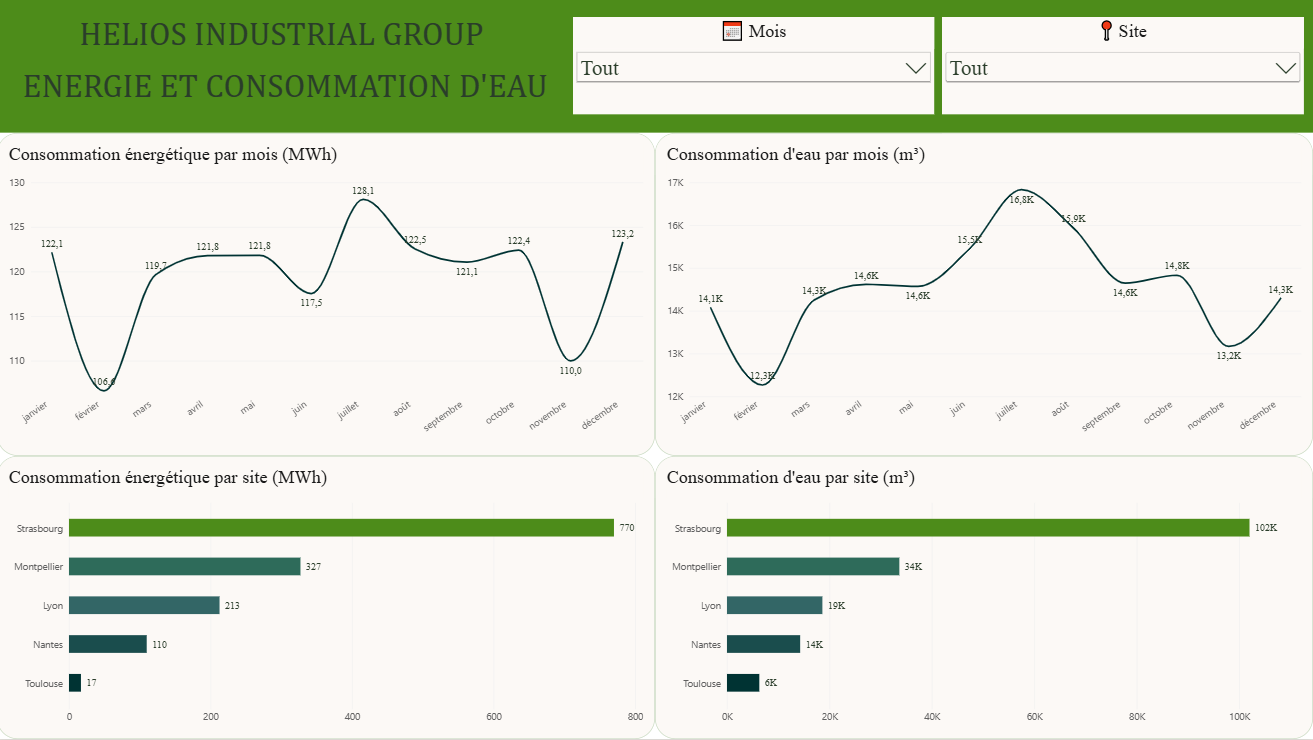

Layout of this report page (visuals, bound fields, positions):
{"tool":"powerbi","page":{"name":"ÉNERGIE & CONSOMMATION D'EAU","canvas":[1920,1080],"ordinal":1},"visuals":[{"type":"textbox","box":[0,0,1920,195],"z":0},{"type":"textbox","box":[0,26.3,840.4,153.2],"z":1000},{"type":"lineChart","title":"Consommation énergétique par mois (MWh)","fields":{"Category":["dim_date.Mois"],"Y":["Mesures.Consommation Energie MWh"]},"box":[0,195.5,960,471.2],"z":4000},{"type":"lineChart","title":"Consommation d''eau par mois (m³) ","fields":{"Category":["dim_date.Mois"],"Y":["Sum(mart_water.allocated_water_consumption_m3)"]},"box":[960,195.5,960,471.2],"z":5000},{"type":"clusteredBarChart","title":"Consommation énergétique par site (MWh)","fields":{"Category":["site.city"],"Y":["Mesures.Consommation Energie MWh"]},"box":[0,666.7,960,412.9],"z":6000},{"type":"clusteredBarChart","title":"Consommation d''eau par site (m³) ","fields":{"Category":["site.city"],"Y":["Sum(mart_water.allocated_water_consumption_m3)"]},"box":[960,666.7,960,412.9],"z":7000},{"type":"slicer","title":"📅 Mois","fields":{"Values":["dim_date.Mois"]},"box":[840,26.7,526.7,141.7],"z":7001},{"type":"slicer","title":"📍 Site","fields":{"Values":["site.site_name"]},"box":[1378.3,26.7,528.3,141.7],"z":7002}]}

Visuals, with their boxes in screenshot pixels (x1, y1, x2, y2), scaled from the page's 1920x1080 canvas onto the 1313x740 screenshot:
textbox: 0, 0, 1312, 134
textbox: 0, 18, 575, 123
"Consommation énergétique par mois (MWh)" lineChart: 0, 134, 656, 457
"Consommation d''eau par mois (m³) " lineChart: 656, 134, 1312, 457
"Consommation énergétique par site (MWh)" clusteredBarChart: 0, 457, 656, 739
"Consommation d''eau par site (m³) " clusteredBarChart: 656, 457, 1312, 739
"📅 Mois" slicer: 574, 18, 935, 115
"📍 Site" slicer: 943, 18, 1304, 115
